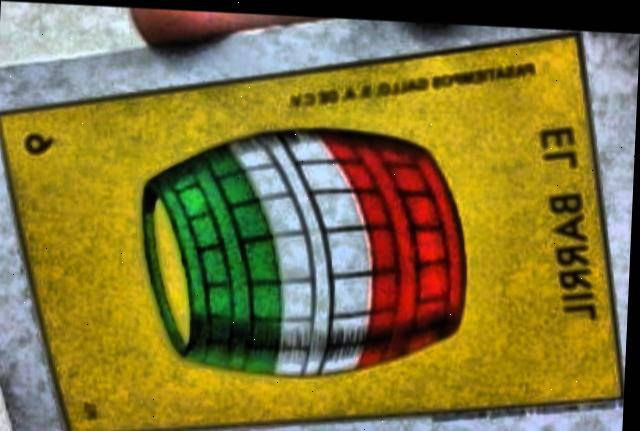El Barril: (0, 27, 624, 431)
